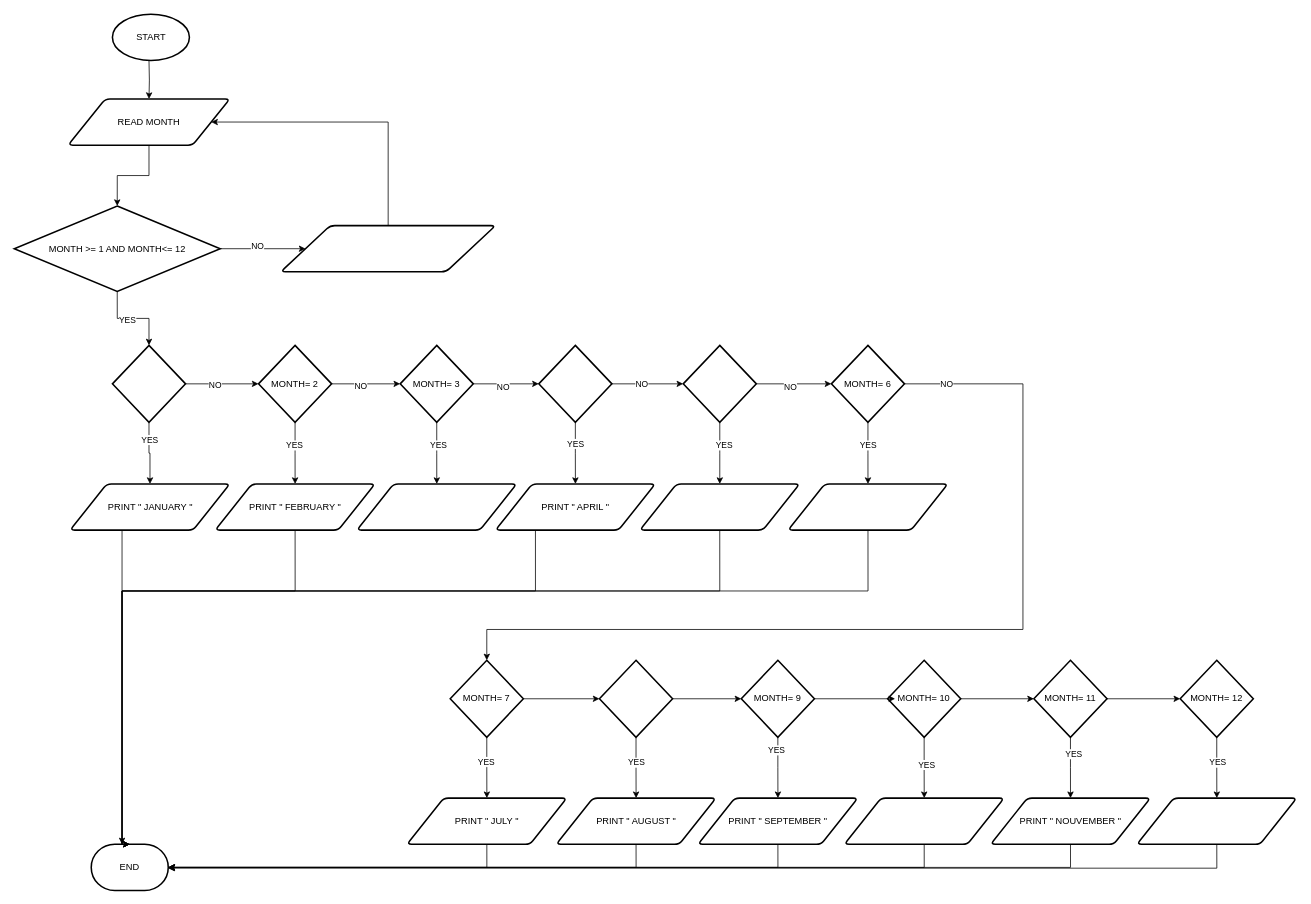
Image size: 1311x904. Some labels were removed from this diagram. The shapes that lost their labels are listed below. From the top down, each one's centre as x and y in pixels, then its label:
(x=388, y=248): PRINT "WRONG MONTH"
(x=148, y=383): MONTH= 1
(x=575, y=383): MONTH= 4
(x=719, y=383): MONTH= 5
(x=436, y=507): PRINT " MARCH"
(x=719, y=507): PRINT " MAY "
(x=867, y=507): PRINT " JUNE "
(x=635, y=698): MONTH= 8
(x=923, y=821): PRINT " OCTOBER "
(x=1216, y=821): PRINT " DECEMBER "
